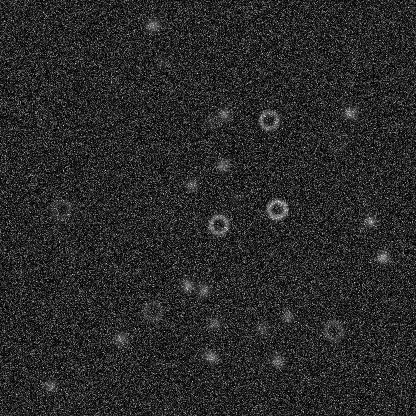Ring: (256, 107, 280, 131), (321, 318, 345, 342), (49, 197, 73, 221), (325, 130, 349, 154), (206, 212, 230, 236), (140, 298, 164, 322), (264, 197, 288, 221)
Spot: (279, 308, 295, 324), (227, 189, 243, 205), (361, 212, 377, 228), (206, 315, 222, 331), (269, 352, 285, 368), (154, 54, 170, 70), (216, 106, 232, 122), (214, 157, 230, 173), (374, 249, 390, 265), (195, 282, 211, 298), (112, 330, 128, 346), (144, 17, 160, 33), (179, 276, 195, 292), (342, 104, 358, 120), (202, 348, 218, 364), (253, 320, 269, 336), (183, 176, 199, 192), (42, 377, 58, 393), (202, 112, 218, 128)
